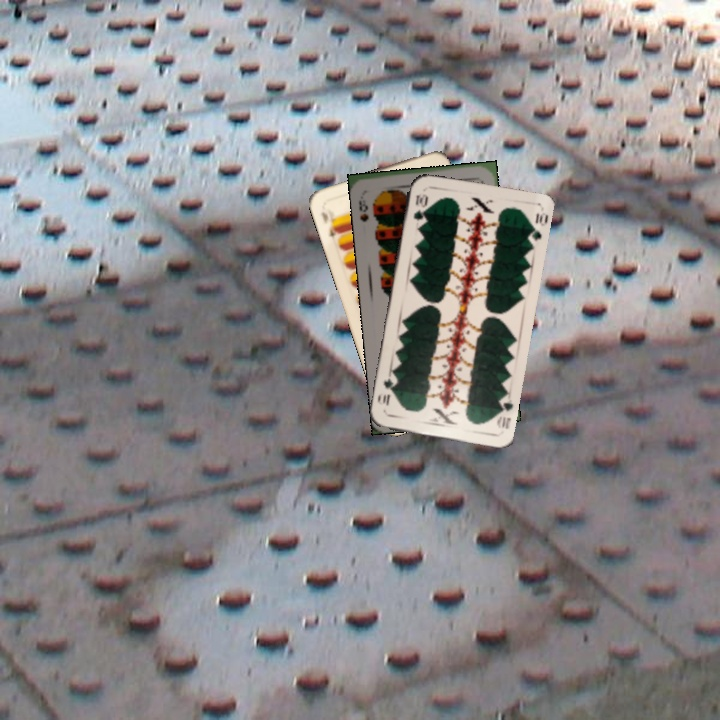E10: (317, 207, 342, 242)
G10: (493, 392, 515, 432), (409, 189, 429, 223)
S8: (355, 196, 371, 224)
